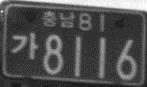1: (73, 35, 84, 78), (98, 36, 107, 81), (98, 12, 106, 33)
6: (115, 38, 138, 82)
8: (42, 33, 64, 74), (78, 12, 92, 31)
가: (10, 30, 37, 60)
충남_O: (41, 9, 75, 29)
